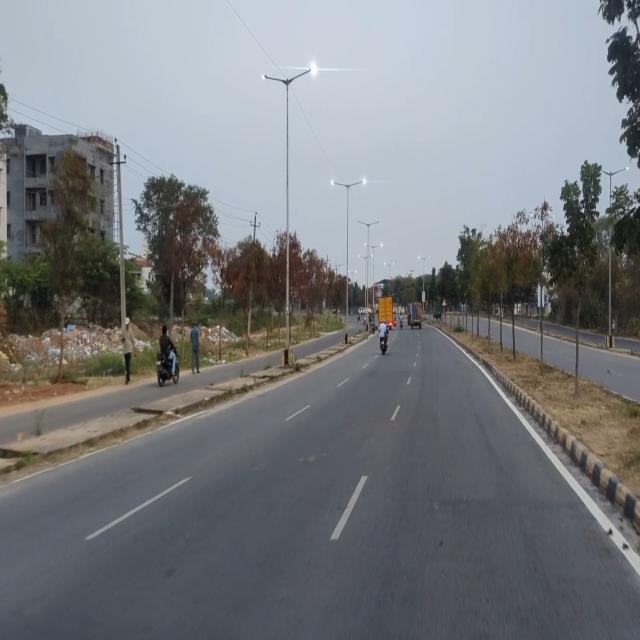bien_cam: (442, 297, 448, 307)
